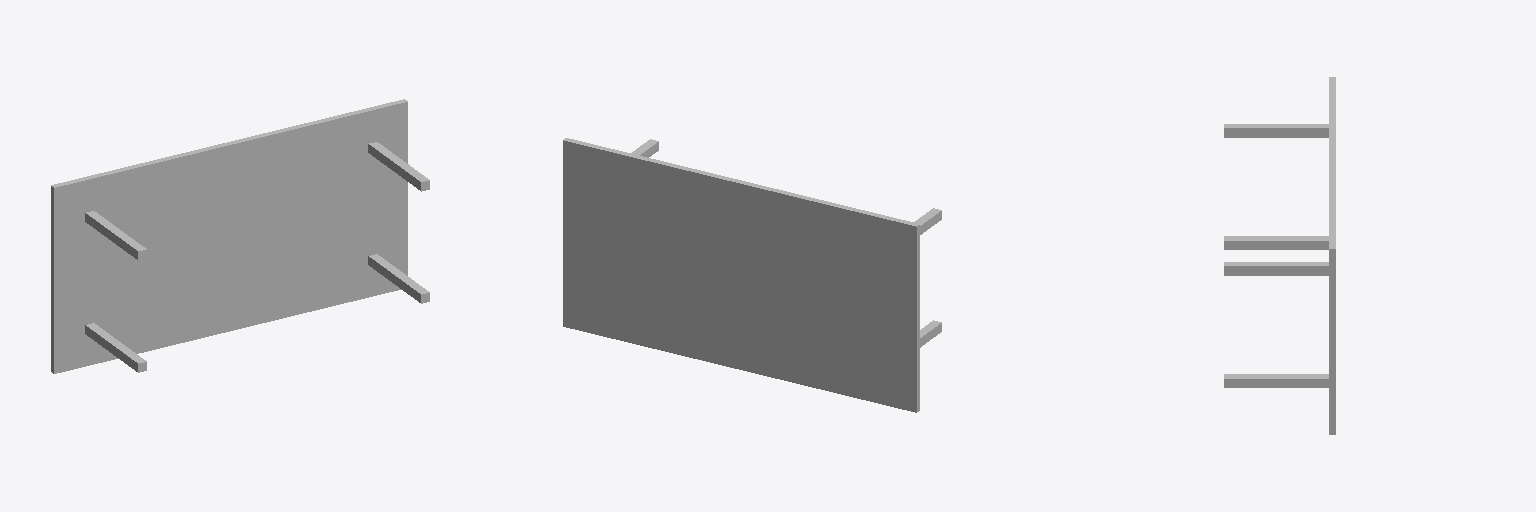
Rendered from random_table47.obj.
The picture shows the model from 3 angles: view 1: azimuth 30°, elevation 25°; view 2: azimuth 150°, elevation 25°; view 3: azimuth 270°, elevation 25°; orthographic projection.
Parts seen in each view (by area): view 1: Table_Cube.430, TableLeg0_Cube.431, TableLeg1_Cube.432, TableLeg2_Cube.433, TableLeg3_Cube.434; view 2: Table_Cube.430; view 3: Table_Cube.430, TableLeg0_Cube.431, TableLeg1_Cube.432, TableLeg2_Cube.433, TableLeg3_Cube.434.
Boxes of the visible parts, <box> form: Table_Cube.430: <box>51,99,407,373</box>; TableLeg0_Cube.431: <box>368,142,429,191</box>; TableLeg1_Cube.432: <box>85,211,146,260</box>; TableLeg2_Cube.433: <box>368,254,429,303</box>; TableLeg3_Cube.434: <box>85,323,146,372</box>; Table_Cube.430: <box>563,138,919,412</box>; Table_Cube.430: <box>1329,77,1335,434</box>; TableLeg0_Cube.431: <box>1224,262,1328,275</box>; TableLeg1_Cube.432: <box>1224,124,1328,137</box>; TableLeg2_Cube.433: <box>1224,374,1328,387</box>; TableLeg3_Cube.434: <box>1224,236,1328,249</box>.
Size of the model in its own units: 10.65 by 5.36 by 2.94.